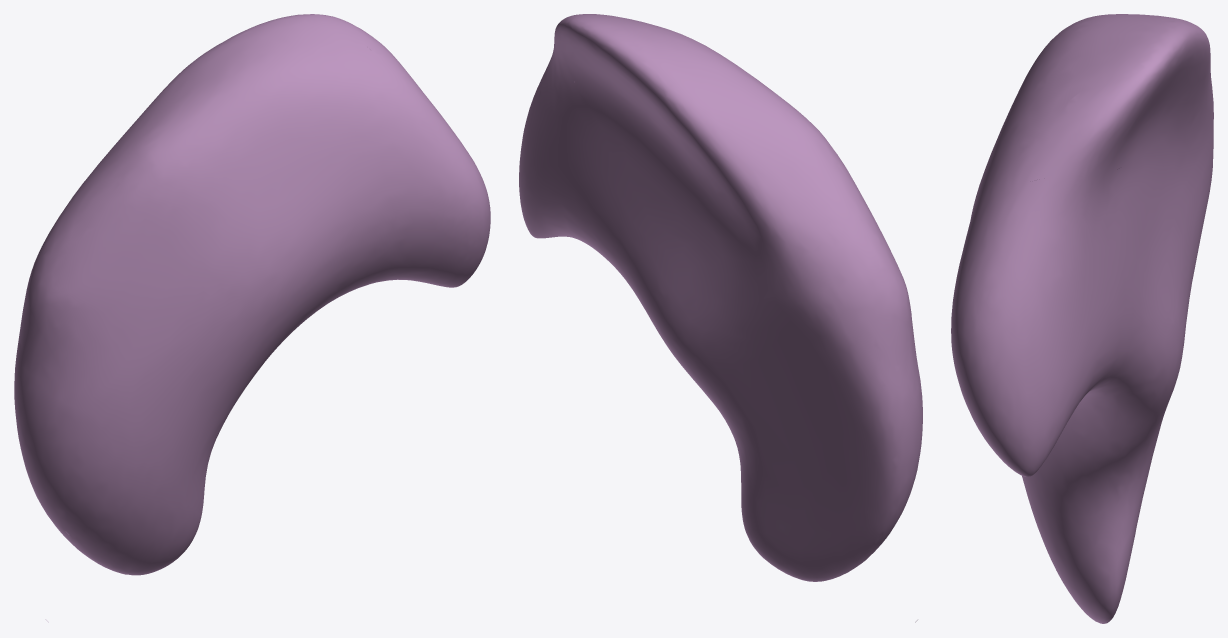
3 renders of one model, left to right at view 1: azimuth 30°, elevation 25°; view 2: azimuth 150°, elevation 25°; view 3: azimuth 270°, elevation 25°, orthographic. The views are drawn at different scales.
Parts seen in each view (by area): view 1: 右侧上半月小叶; view 2: 右侧上半月小叶; view 3: 右侧上半月小叶.
Part boxes in pixels (x1,y1,x2,y2): 右侧上半月小叶: (14, 14, 490, 622); 右侧上半月小叶: (519, 14, 922, 622); 右侧上半月小叶: (951, 14, 1213, 623).
Bounding box in the file's own units: 0.0722 × 0.0862 × 0.0285.
